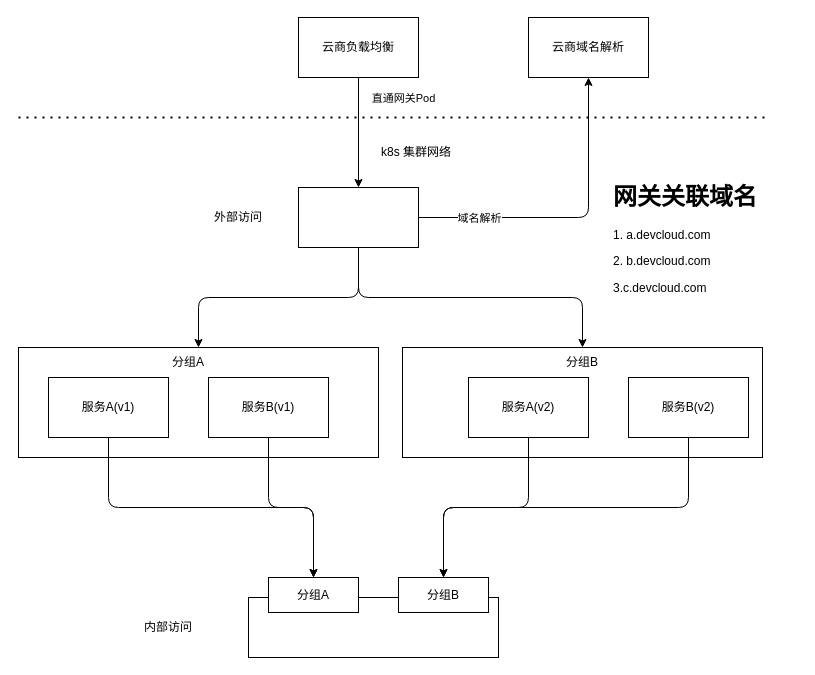
The diagram is 815 pixels wide and 675 high, and some of its shapes have lost their labels. The centre of each missing label's shape, as x and y in pixels:
注册中心 (mcenter): point (373, 627)
网关 (Apisix/Traefik): point (358, 217)
